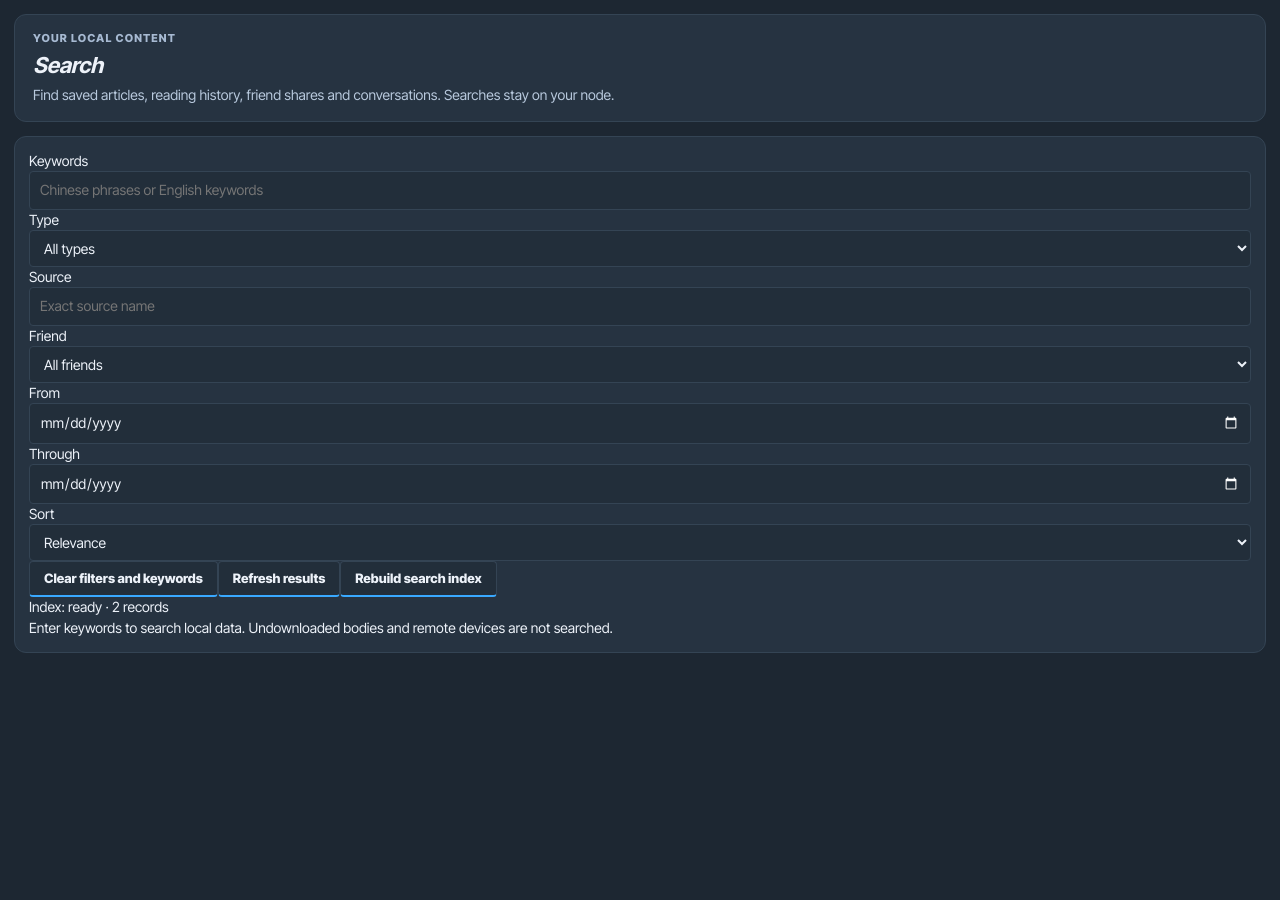
Test: does not invent a 1970 date for synced metadata without a local timestamp
This screenshot has width=1280, height=900.
In the field named "Search keywords": (640, 191) left=29, top=171, right=1251, bottom=210, type "Remote"
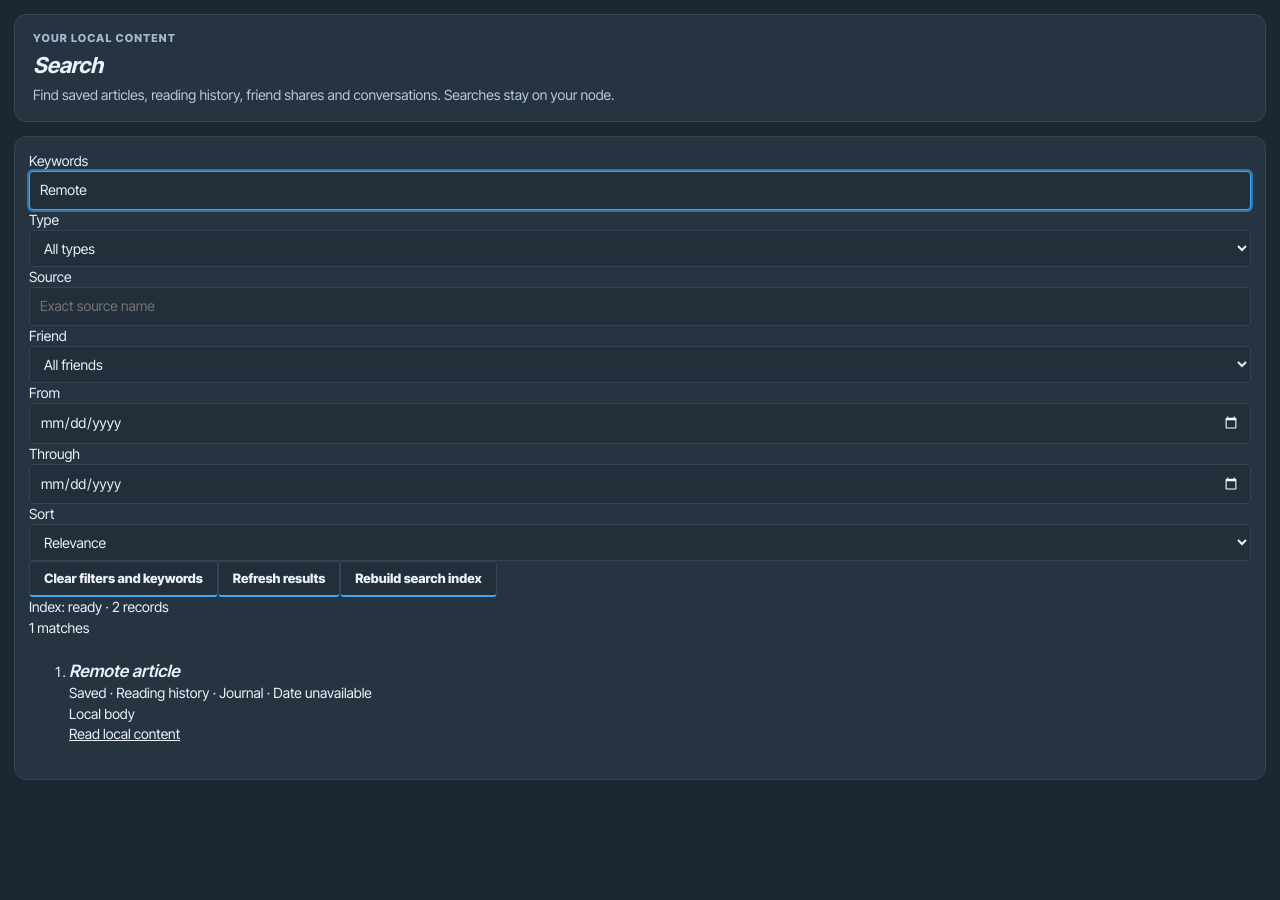
Check: the text "Saved · Reading history · Journal · Date unavailable" is shown, box left=69, top=684, right=372, bottom=702
